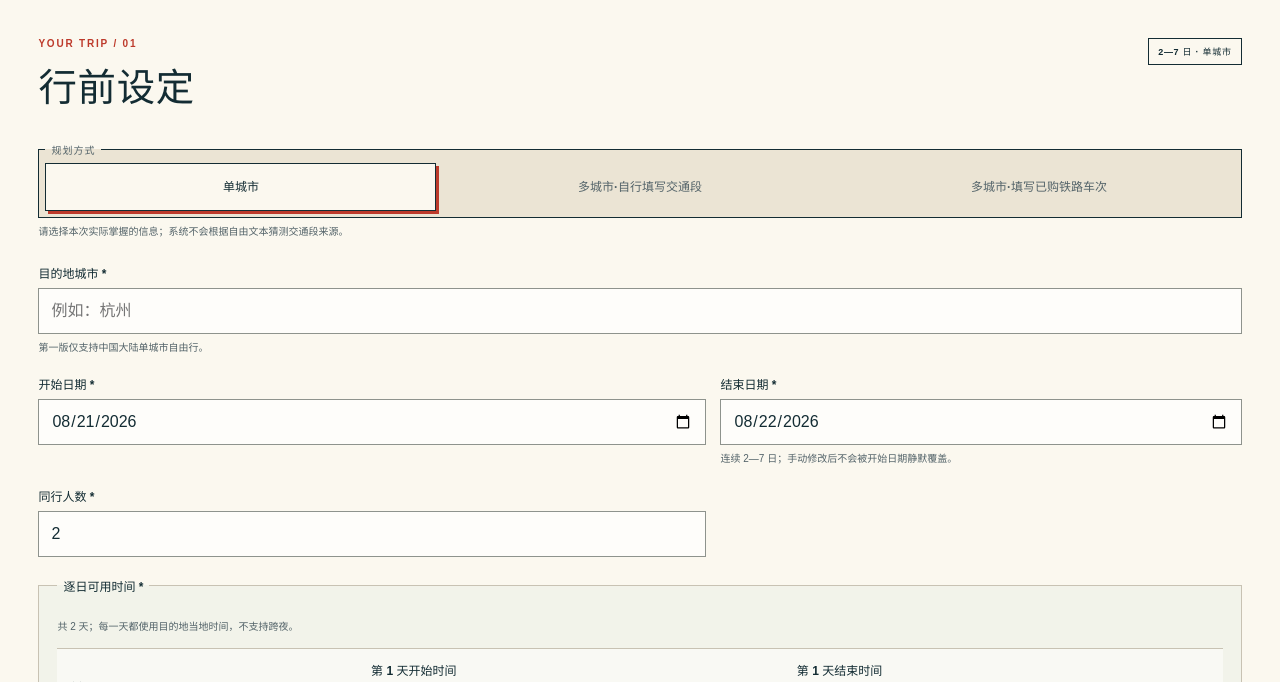
Test: reports field-level multi-city errors and focuses the first city
Click the radio button labelled "多城市·自行填写交通段" at point(640, 187), box [578, 180, 702, 194]
(page scrolled)
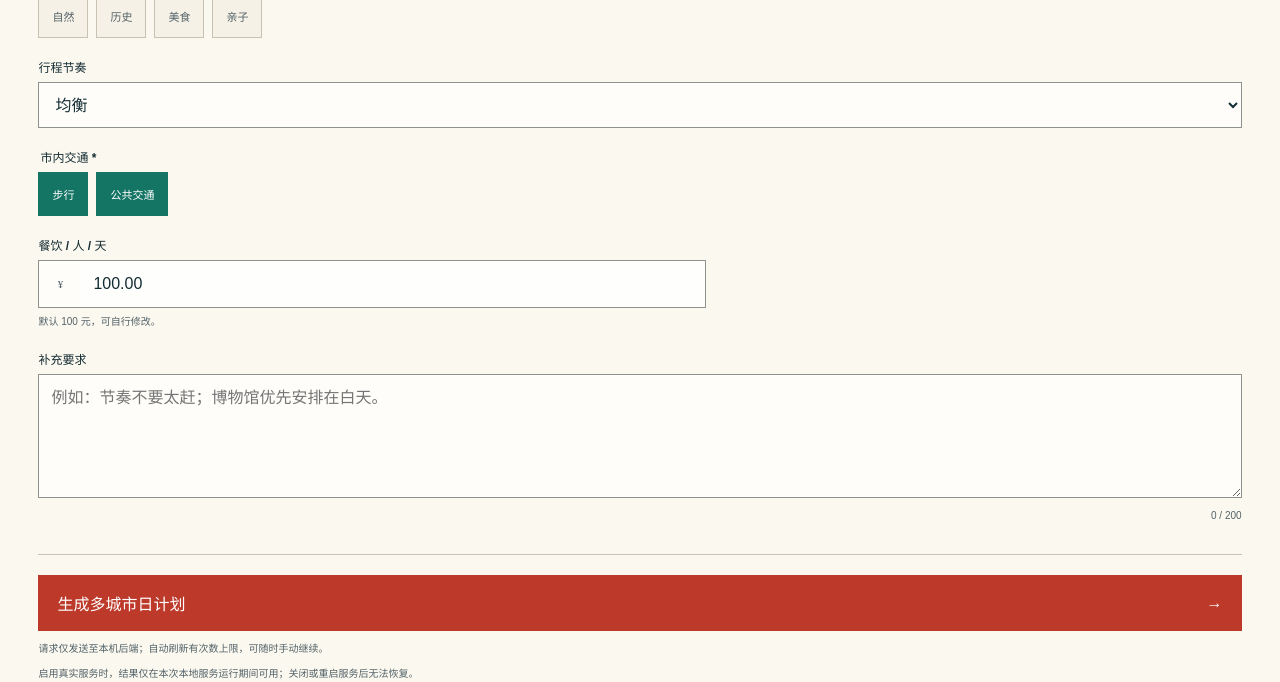
Click the button "生成多城市日计划 →" at point(121, 604), box [38, 575, 1242, 631]
(page scrolled)
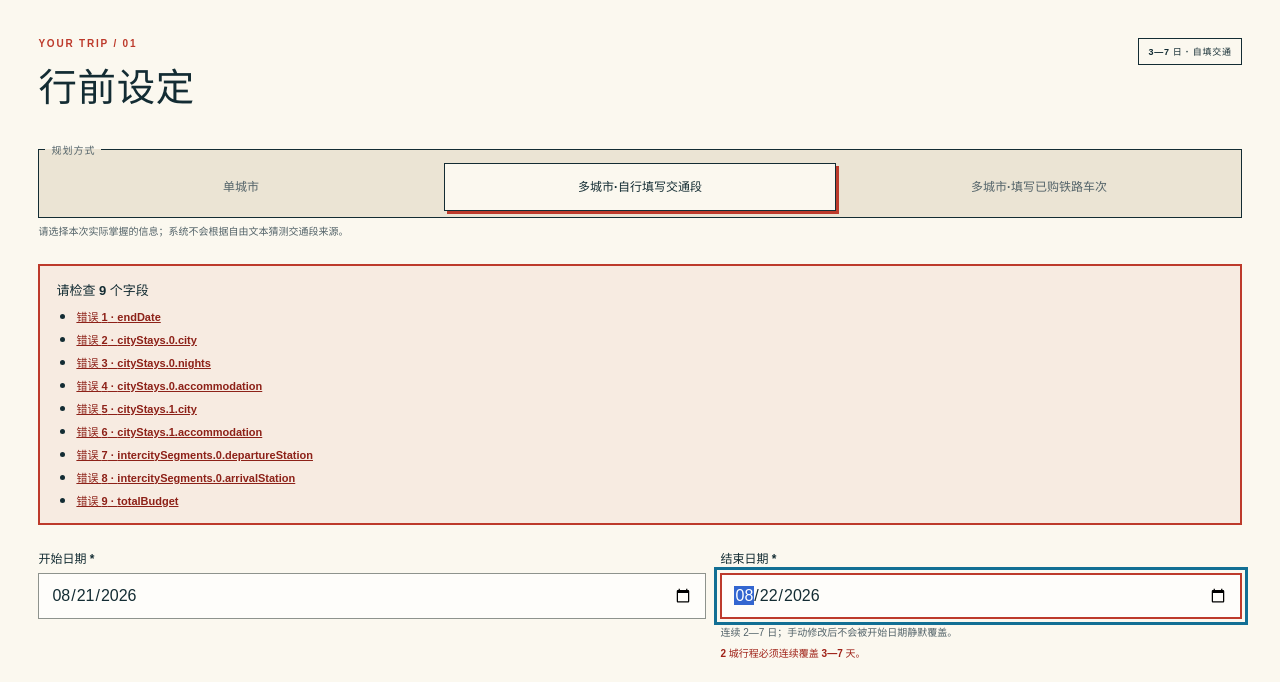
Result: the text "2 城行程必须连续覆盖 3—7 天。" is shown at [720, 648, 866, 659]
